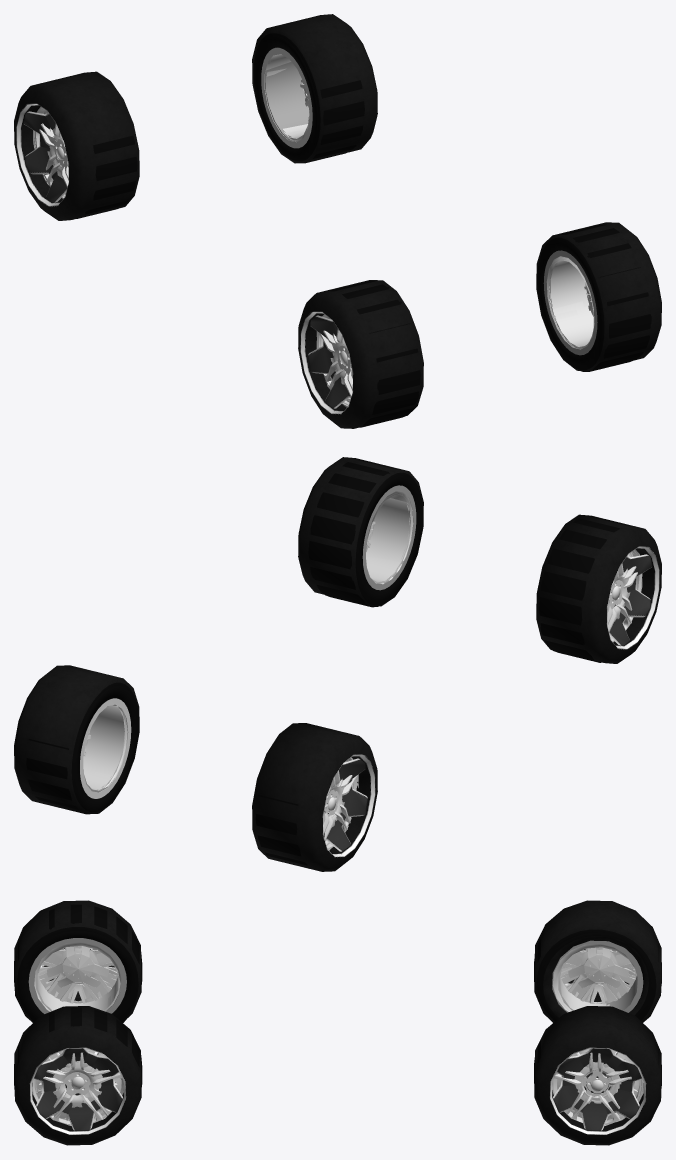
Rendered from Dodge_wheels.fbx.
The picture shows the model from 3 angles, top to bottom: view 1: azimuth 30°, elevation 25°; view 2: azimuth 150°, elevation 25°; view 3: azimuth 270°, elevation 25°; orthographic projection. The views are drawn at different scales.
Visible parts, largest first — view 1: Base_RR, Base_FR, Base_RL, Base_FL, pasted__WheelStarRB, pasted__WheelV_RB, pasted__WheelSimple_LF, pasted__WheelStarLF, pasted__WheelStarLB, pasted__WheelFlowerRF, pasted__WheelSimple_RF, pasted__WheelFlowerLF (+2 smaller); view 2: Base_RR, Base_FR, Base_RL, Base_FL, pasted__WheelFiveLF, pasted__WheelMagicLB, pasted__WheelV_RB, pasted__WheelFiveRF, pasted__WheelStarLF, pasted__WheelFlowerRF, pasted__WheelMagicRB, pasted__WheelFlowerLF (+5 smaller); view 3: Base_RL, Base_FL, Base_RR, Base_FR, pasted__WheelStarRF, pasted__WheelStarLB, pasted__WheelFutureRF, pasted__WheelFutureRB, pasted__WheelFiveRF, pasted__WheelThreeStar_RB, pasted__WheelThreeStar_RF, pasted__WheelFlowerLF (+11 smaller).
Boxes of the visible parts, x1,y1,x2,y2 form: Base_RR: (14,71,139,220); Base_FR: (298,280,423,428); Base_RL: (252,14,377,163); Base_FL: (536,222,661,371); pasted__WheelStarRB: (265,34,364,154); pasted__WheelV_RB: (254,35,318,161); pasted__WheelSimple_LF: (549,262,650,363); pasted__WheelStarLF: (537,237,638,366); pasted__WheelStarLB: (34,109,137,210); pasted__WheelFlowerRF: (548,224,640,347); pasted__WheelSimple_RF: (320,316,420,419); pasted__WheelFlowerLF: (325,281,409,405); Base_RR: (252,723,377,871); Base_FR: (536,514,661,663); Base_RL: (14,665,139,814); Base_FL: (298,457,423,606); pasted__WheelFiveLF: (308,492,409,588); pasted__WheelMagicLB: (26,698,125,807); pasted__WheelV_RB: (73,686,138,812); pasted__WheelFiveRF: (539,531,641,654); pasted__WheelStarLF: (358,470,423,601); pasted__WheelFlowerRF: (328,459,409,583); pasted__WheelMagicRB: (255,760,358,865); pasted__WheelFlowerLF: (559,516,631,640); Base_RL: (534,1006,661,1145); Base_FL: (14,1006,141,1145); Base_RR: (534,900,661,1022); Base_FR: (14,900,141,1022); pasted__WheelStarRF: (17,923,138,1020); pasted__WheelStarLB: (534,929,653,1020); pasted__WheelFutureRF: (18,931,138,1022); pasted__WheelFutureRB: (539,932,656,1020); pasted__WheelFiveRF: (36,916,142,1010); pasted__WheelThreeStar_RB: (556,947,634,1011); pasted__WheelThreeStar_RF: (36,946,120,1011); pasted__WheelFlowerLF: (36,904,120,1011).
Size of the model in its own units: 225 by 89.51 by 450.
20 materials, 1 textured.
